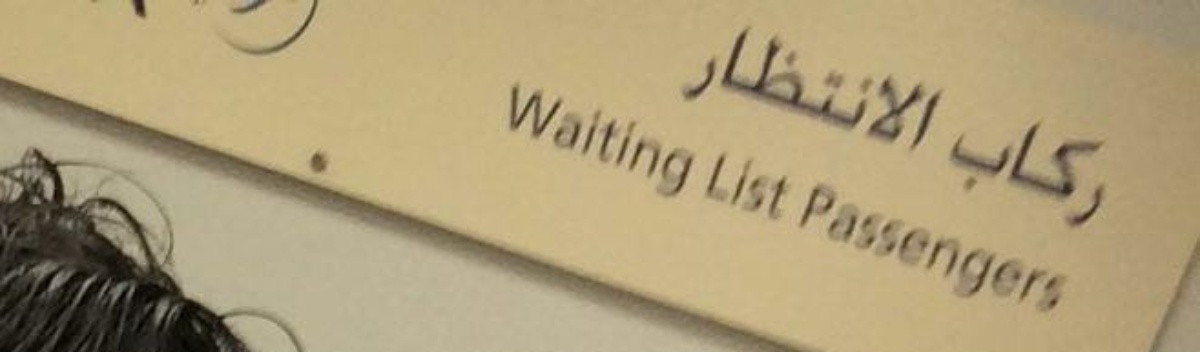text: (817, 177, 832, 327), (833, 177, 848, 327), (849, 177, 864, 327), (865, 177, 880, 327), (881, 177, 896, 327), (897, 177, 912, 327), (913, 177, 928, 327), (929, 177, 944, 327), (945, 177, 960, 327), (961, 177, 976, 327), (977, 177, 992, 327), (993, 177, 1008, 327), (1009, 177, 1024, 327), (1025, 177, 1040, 327), (1041, 177, 1056, 327), (1057, 177, 1072, 327), (753, 19, 768, 157), (769, 19, 784, 157), (785, 19, 800, 157), (801, 19, 816, 157), (817, 19, 832, 157), (833, 19, 848, 157), (849, 19, 864, 157), (865, 19, 880, 157), (881, 19, 896, 157), (897, 19, 912, 157), (913, 19, 928, 157), (929, 19, 944, 157), (513, 73, 528, 205), (529, 73, 544, 205), (545, 73, 560, 205), (561, 73, 576, 205), (577, 73, 592, 205), (593, 73, 608, 205), (609, 73, 624, 205), (625, 73, 640, 205), (641, 73, 656, 205), (657, 73, 672, 205), (673, 73, 688, 205), (689, 73, 704, 205), (977, 117, 992, 241), (993, 117, 1008, 241), (1009, 117, 1024, 241), (1025, 117, 1040, 241), (1041, 117, 1056, 241), (1057, 117, 1072, 241), (1073, 117, 1088, 241), (1089, 117, 1104, 241), (1105, 117, 1120, 241), (1121, 117, 1136, 241), (963, 117, 976, 241), (737, 146, 752, 227), (753, 146, 768, 227), (769, 146, 784, 227), (785, 146, 799, 227), (723, 146, 736, 227), (745, 19, 752, 157), (1137, 117, 1142, 241), (509, 73, 512, 205), (1073, 177, 1075, 327), (945, 19, 947, 157), (705, 73, 706, 205)
